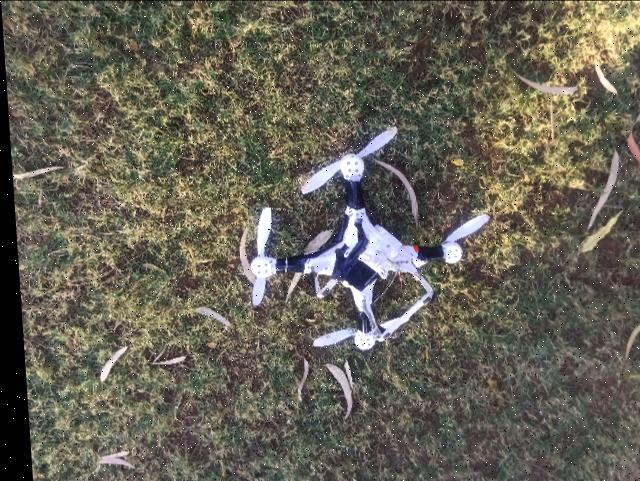drone: (211, 120, 506, 360)
